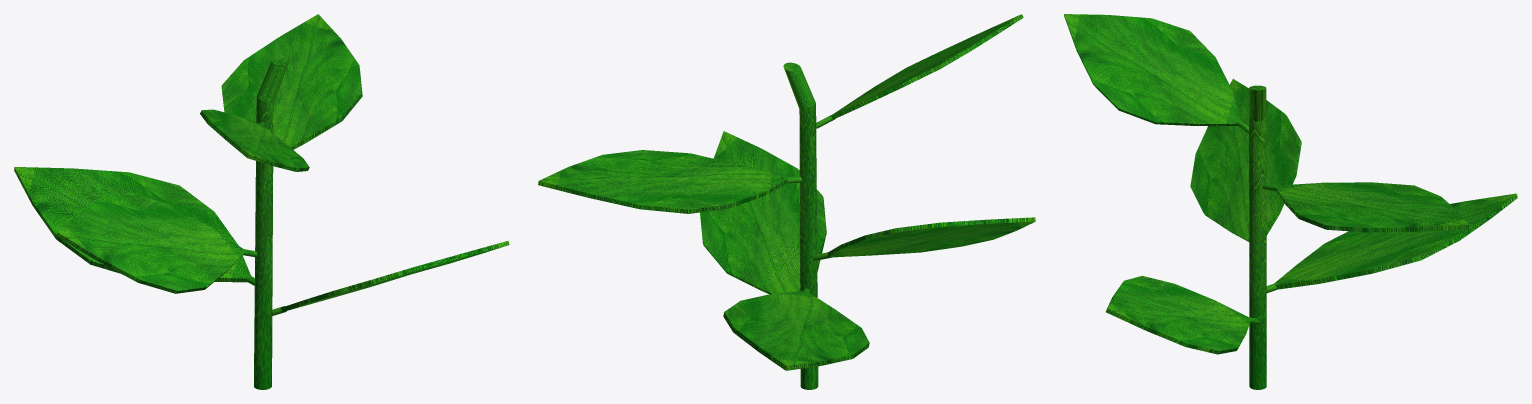
The model's file is Planta2.fbx.
3 renders of one model, left to right at view 1: azimuth 30°, elevation 25°; view 2: azimuth 150°, elevation 25°; view 3: azimuth 270°, elevation 25°, orthographic. The views are drawn at different scales.
Visible parts, largest first — view 1: Cylinder.001; view 2: Cylinder.001; view 3: Cylinder.001.
Part boxes in pixels (x1,y1,x2,y2): Cylinder.001: (14,14,509,389); Cylinder.001: (538,14,1035,389); Cylinder.001: (1064,14,1517,389).
Size of the model in its own units: 115 by 95.51 by 123.
6 materials, 6 textured.
